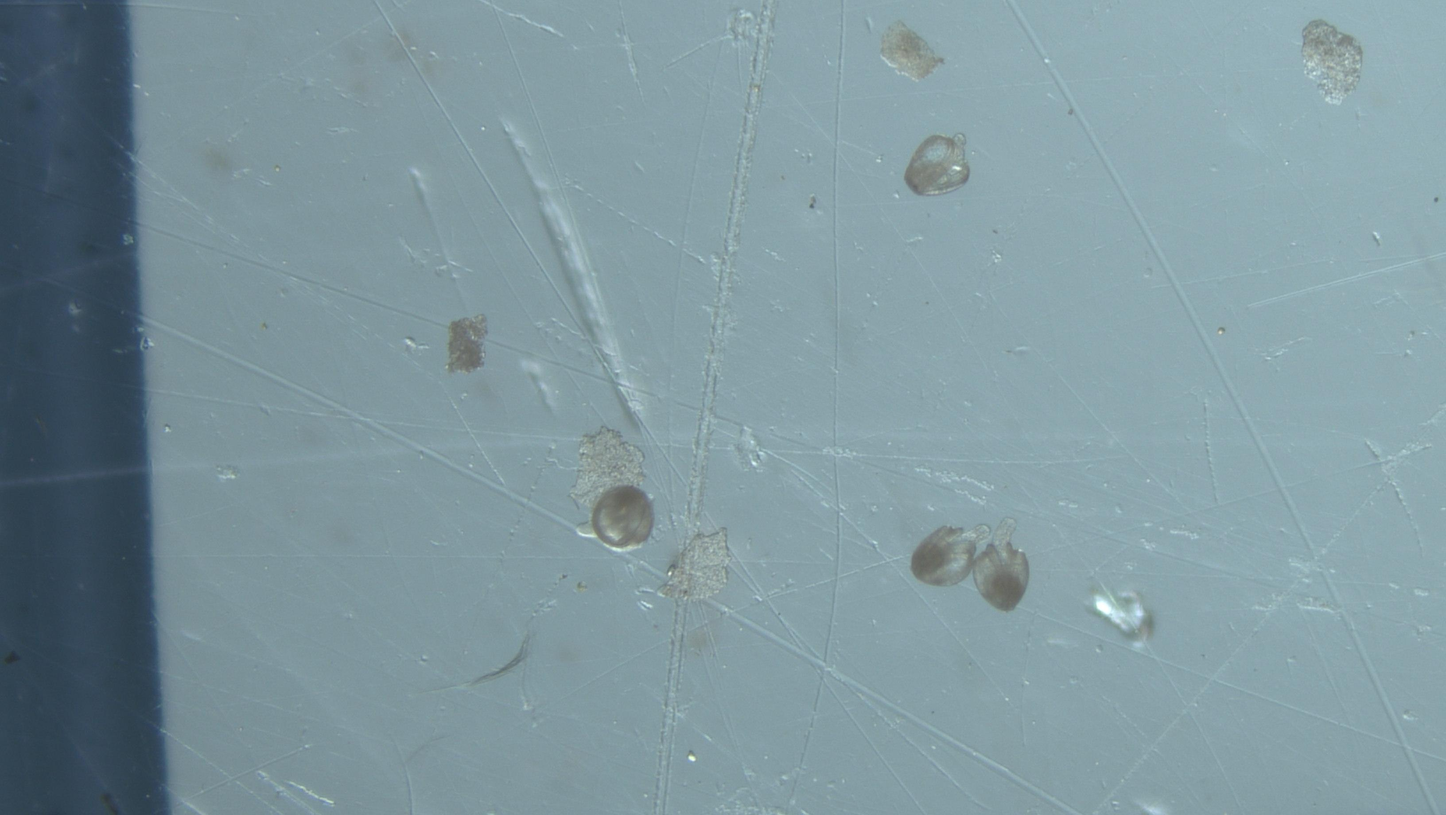live: (911, 526, 982, 586), (590, 485, 655, 550), (973, 540, 1030, 612), (904, 135, 970, 195)
